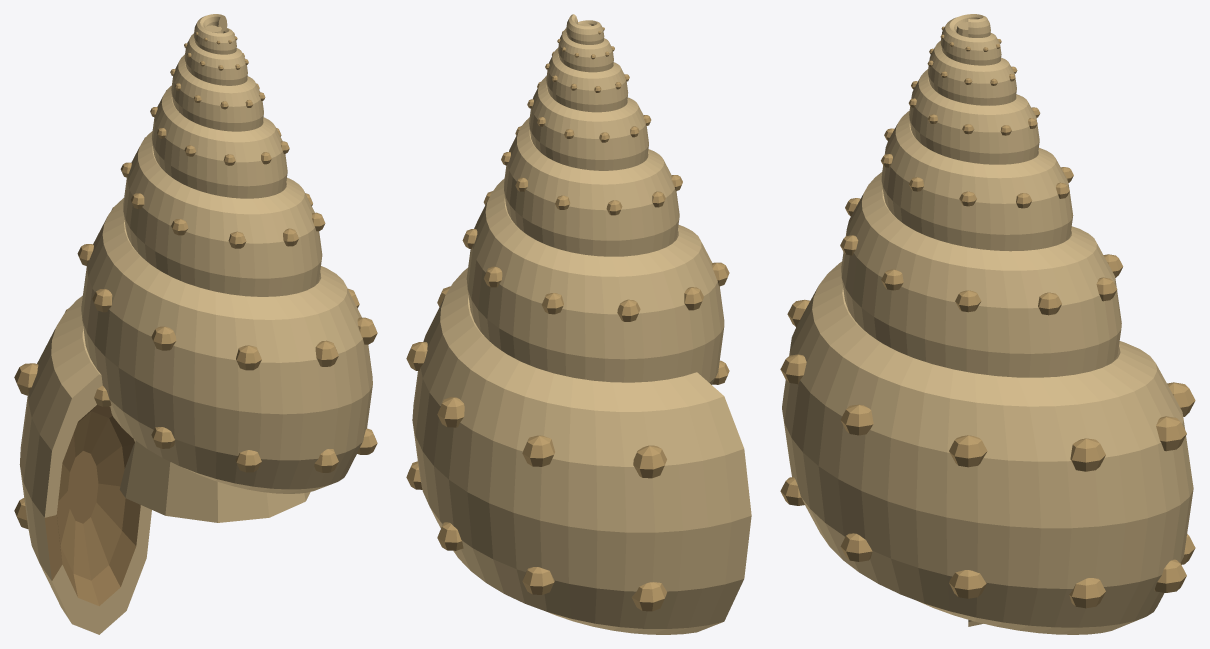
File: hypoturrilites.glb
3 renders of one model, left to right at view 1: azimuth 30°, elevation 25°; view 2: azimuth 150°, elevation 25°; view 3: azimuth 270°, elevation 25°, orthographic. The views are drawn at different scales.
Visible parts, largest first — view 1: one-continuous-growing-helicoid, two-descending-rows-rounded-nodes, closed-original-fossil-infill; view 2: one-continuous-growing-helicoid, two-descending-rows-rounded-nodes; view 3: one-continuous-growing-helicoid, two-descending-rows-rounded-nodes.
Part boxes in pixels (box(x1,y1,x2,y2)): one-continuous-growing-helicoid: box(19, 14, 372, 634); two-descending-rows-rounded-nodes: box(14, 32, 377, 528); closed-original-fossil-infill: box(119, 25, 310, 522); one-continuous-growing-helicoid: box(412, 14, 751, 634); two-descending-rows-rounded-nodes: box(406, 27, 729, 611); one-continuous-growing-helicoid: box(782, 14, 1193, 634); two-descending-rows-rounded-nodes: box(780, 26, 1195, 608).
Size of the model in its own units: 0.1 by 0.18 by 0.1.
